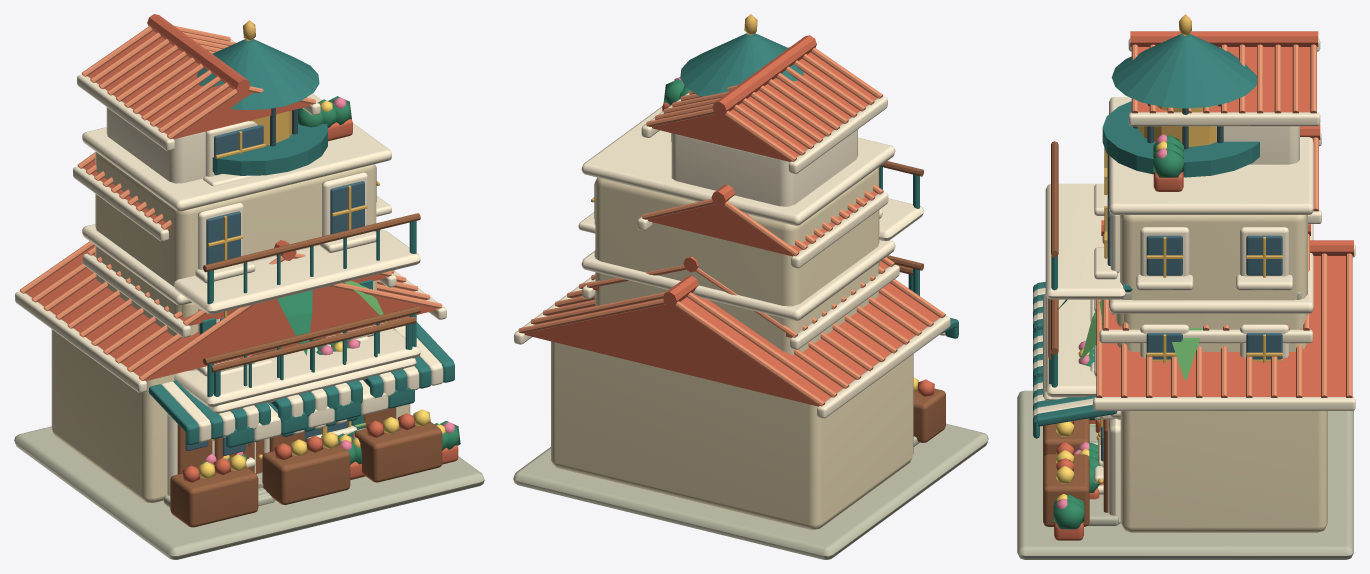
Rendered from buildings.glb.
3 views of the same model, side by side, from view 1: azimuth 30°, elevation 25°; view 2: azimuth 150°, elevation 25°; view 3: azimuth 270°, elevation 25° (orthographic). The views are drawn at different scales.
Visible parts, largest first — view 1: market_mesh, property_level4_mesh, property_level3_mesh, lighthouse_mesh, property_level2_mesh, palm_mesh, property_level1_mesh; view 2: market_mesh, property_level4_mesh, property_level3_mesh, lighthouse_mesh, property_level2_mesh; view 3: market_mesh, property_level4_mesh, lighthouse_mesh, property_level2_mesh, property_level3_mesh, palm_mesh, property_level1_mesh.
Boxes of the visible parts, bbox=[...] form: market_mesh: bbox=[14, 241, 484, 559]; property_level4_mesh: bbox=[77, 14, 420, 467]; property_level3_mesh: bbox=[73, 152, 416, 506]; lighthouse_mesh: bbox=[197, 20, 327, 488]; property_level2_mesh: bbox=[82, 240, 414, 500]; palm_mesh: bbox=[277, 281, 387, 355]; property_level1_mesh: bbox=[253, 338, 357, 493]; market_mesh: bbox=[513, 274, 988, 559]; property_level4_mesh: bbox=[578, 35, 923, 354]; property_level3_mesh: bbox=[594, 184, 912, 290]; lighthouse_mesh: bbox=[671, 14, 803, 141]; property_level2_mesh: bbox=[582, 256, 899, 349]; market_mesh: bbox=[1017, 240, 1355, 559]; property_level4_mesh: bbox=[1045, 31, 1320, 483]; lighthouse_mesh: bbox=[1089, 14, 1259, 443]; property_level2_mesh: bbox=[1078, 220, 1312, 494]; property_level3_mesh: bbox=[1043, 124, 1321, 499]; palm_mesh: bbox=[1058, 299, 1202, 379]; property_level1_mesh: bbox=[1078, 415, 1120, 485].
Size of the model in its own units: 2.95 by 4.03 by 2.62.
